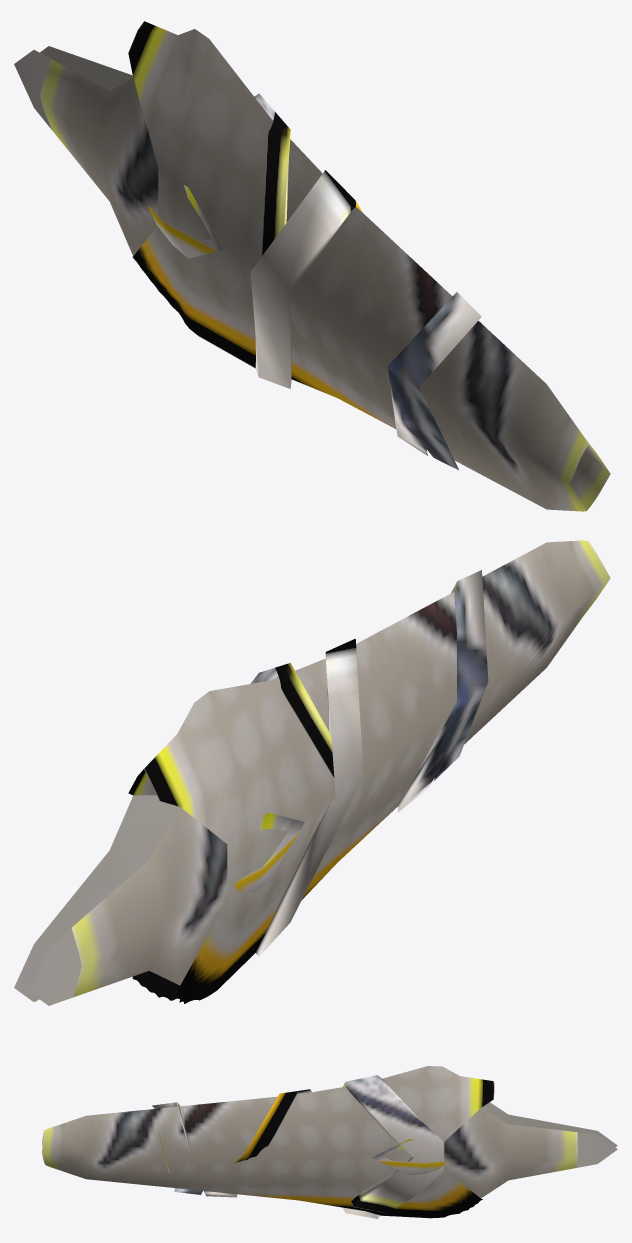
3 renders of one model, top to bottom at view 1: azimuth 30°, elevation 25°; view 2: azimuth 150°, elevation 25°; view 3: azimuth 270°, elevation 25°, orthographic. The views are drawn at different scales.
Visible parts, largest first — view 1: mSaya; view 2: mSaya; view 3: mSaya.
Part boxes in pixels (left/top/right/bottom): mSaya: left=14, top=21, right=610, bottom=511; mSaya: left=14, top=540, right=610, bottom=1005; mSaya: left=42, top=1066, right=617, bottom=1218.
Bounding box in the file's own units: 0.0733 × 0.2141 × 0.7189.
